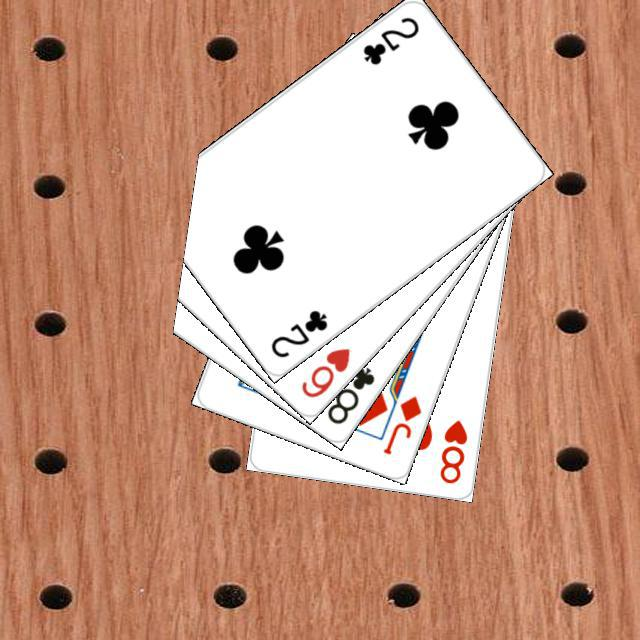2c: (265, 304, 330, 360), (357, 11, 421, 67)
6h: (296, 343, 352, 400)
8c: (322, 361, 377, 426)
8h: (434, 415, 469, 486)
Jd: (377, 390, 424, 456)
